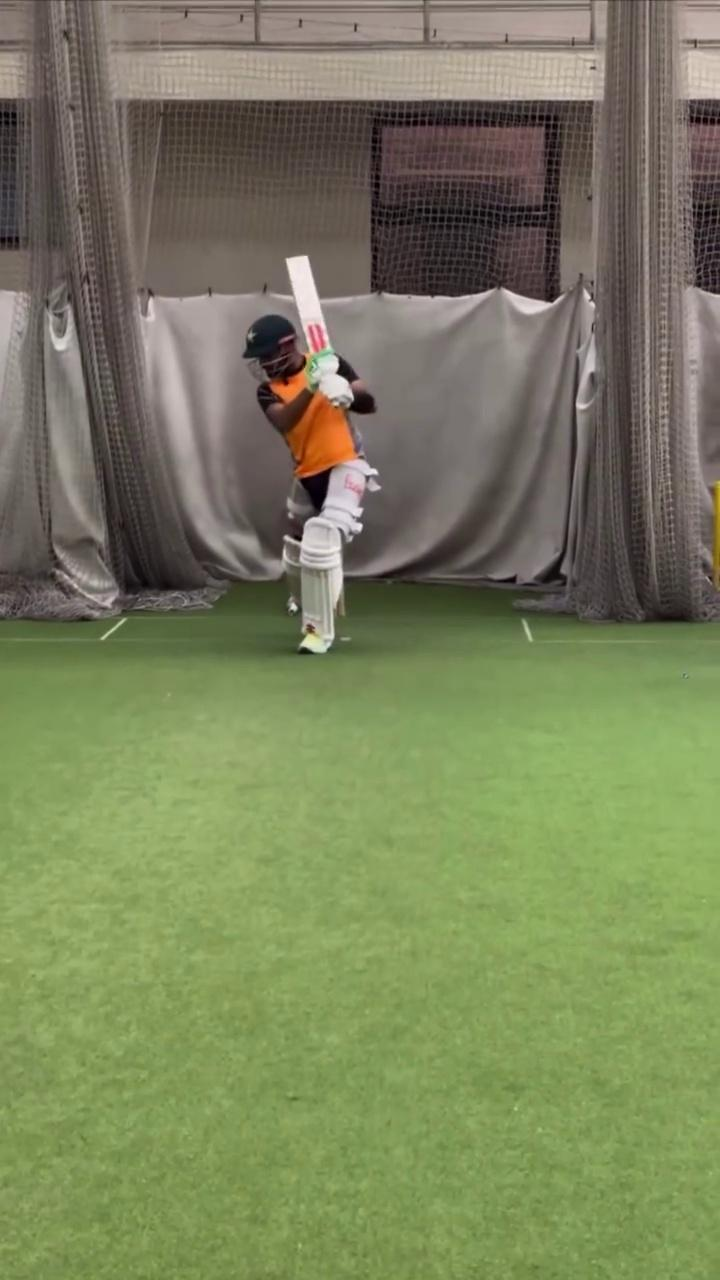bat: (283, 251, 333, 356)
